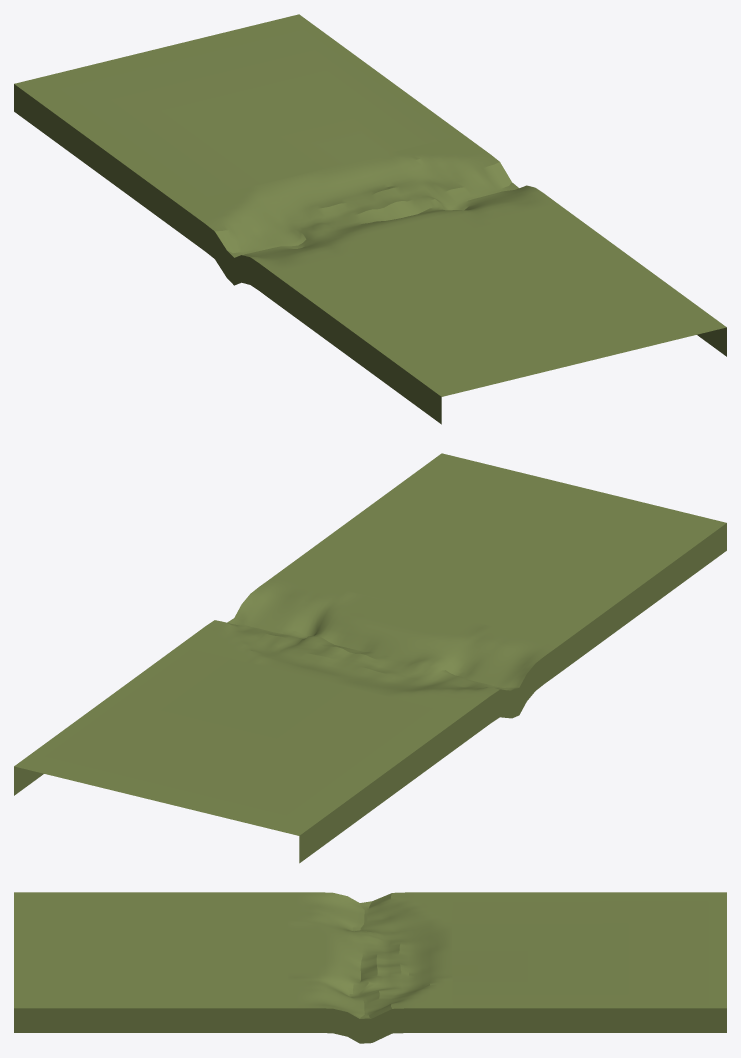
The model's file is Tole_1.fbx.
The picture shows the model from 3 angles, top to bottom: view 1: azimuth 30°, elevation 25°; view 2: azimuth 150°, elevation 25°; view 3: azimuth 270°, elevation 25°; orthographic projection. The views are drawn at different scales.
Parts seen in each view (by area): view 1: Tile 7.004; view 2: Tile 7.004; view 3: Tile 7.004.
Boxes of the visible parts, bbox=[...] form: Tile 7.004: bbox=[14, 14, 726, 424]; Tile 7.004: bbox=[14, 453, 726, 863]; Tile 7.004: bbox=[14, 892, 726, 1043].
Bounding box in the file's own units: 5000 × 723 × 12991.
